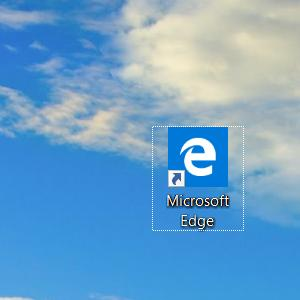edge: (168, 127, 228, 187)
